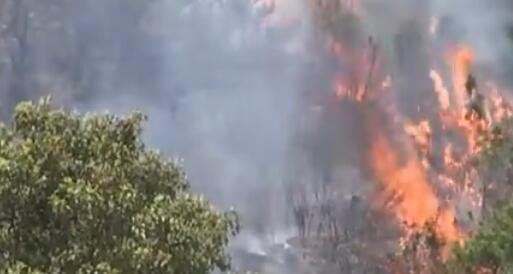fire: (311, 4, 504, 256)
smoke: (2, 1, 382, 259)
